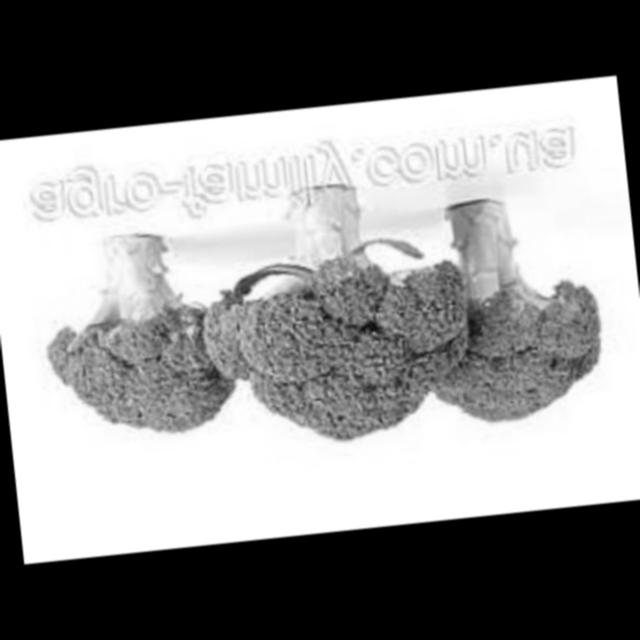bong cai xanh: (212, 141, 470, 479), (34, 229, 246, 487), (414, 178, 626, 426)
